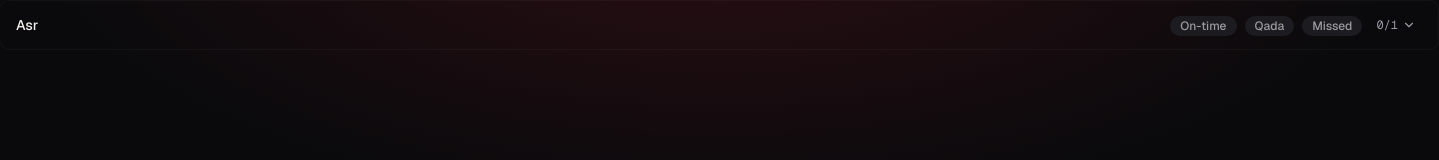
Test case: PrayerRow › sunnah disclosure › shows the mu'akkadah emphasis as a quiet label, not a score
The image size is (1439, 160).
Click the button named "sunnah for asr".
click(1396, 25)  # box 1370,13 -> 1422,37
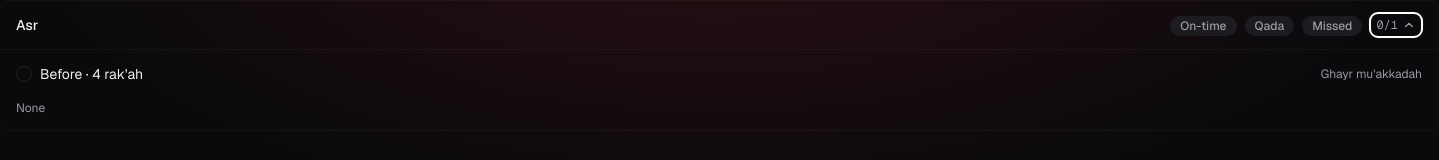
expect the text "Ghayr mu'akkadah" is shown: met, box 1321,66 -> 1422,82
